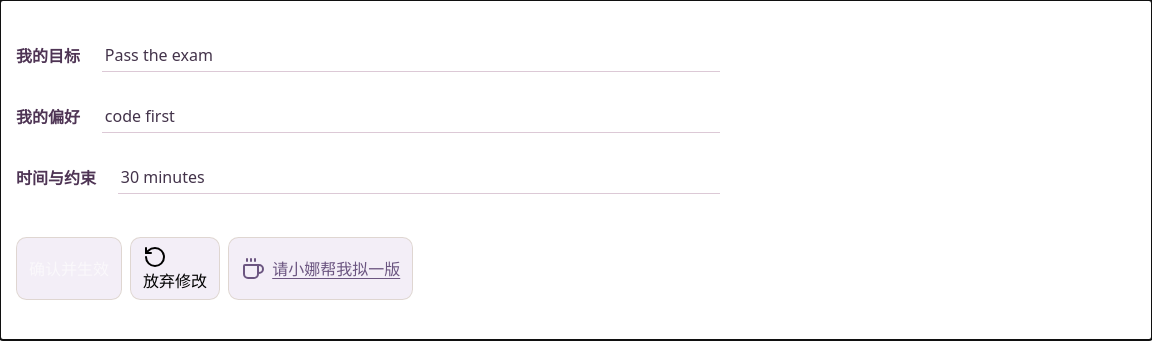
Scenario: FlyleafPage › does not silently replace an unconfirmed learner edit with a later Nana draft
Replace the text in the field labelled "我的目标" with "我自己正在写的目标" at [411, 56], box [102,40,720,72]
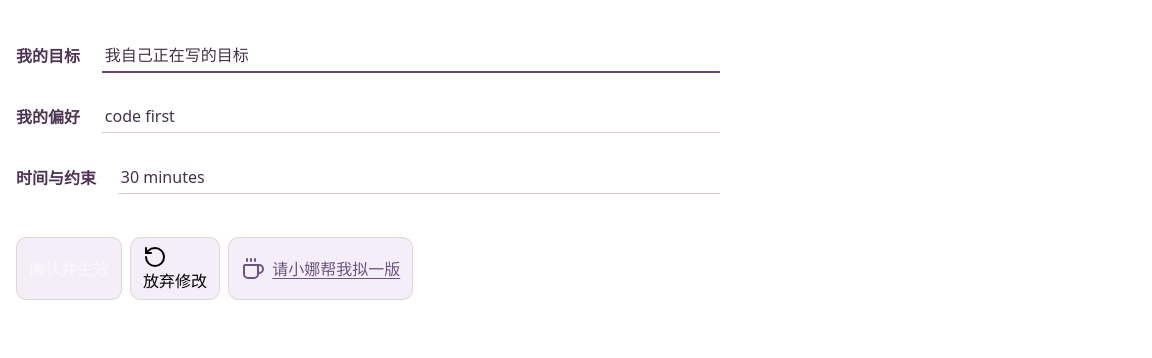
Click the button "请小娜帮我拟一版".
click(321, 269)  # box [228,237,413,300]
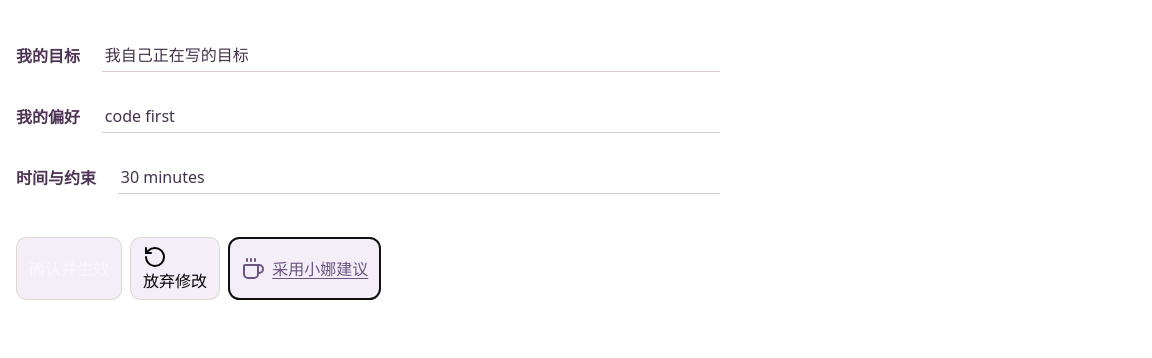
Click the button "采用小娜建议".
click(305, 269)  # box [228,237,381,300]
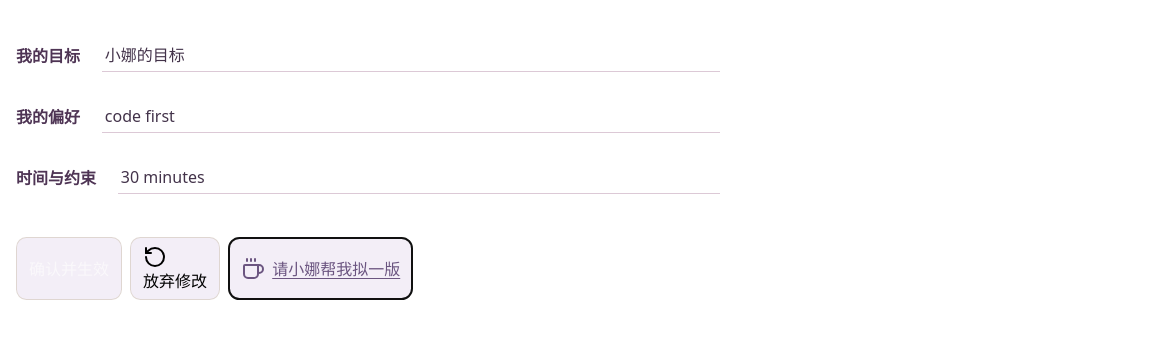
Result: the field labelled "我的目标" holds "小娜的目标" at [102,40,720,72]
Result: the button "请小娜帮我拟一版" is shown at [228,237,413,300]
